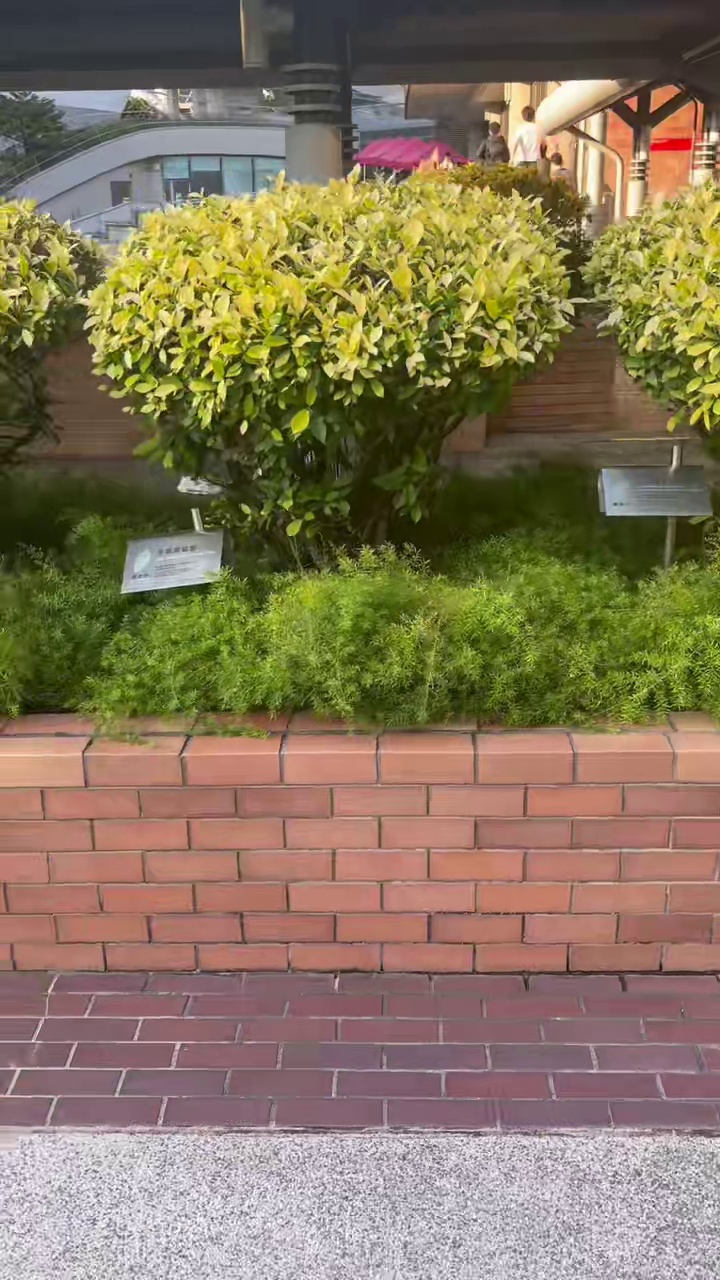Golden-leaves Fig: (86, 177, 572, 552)
